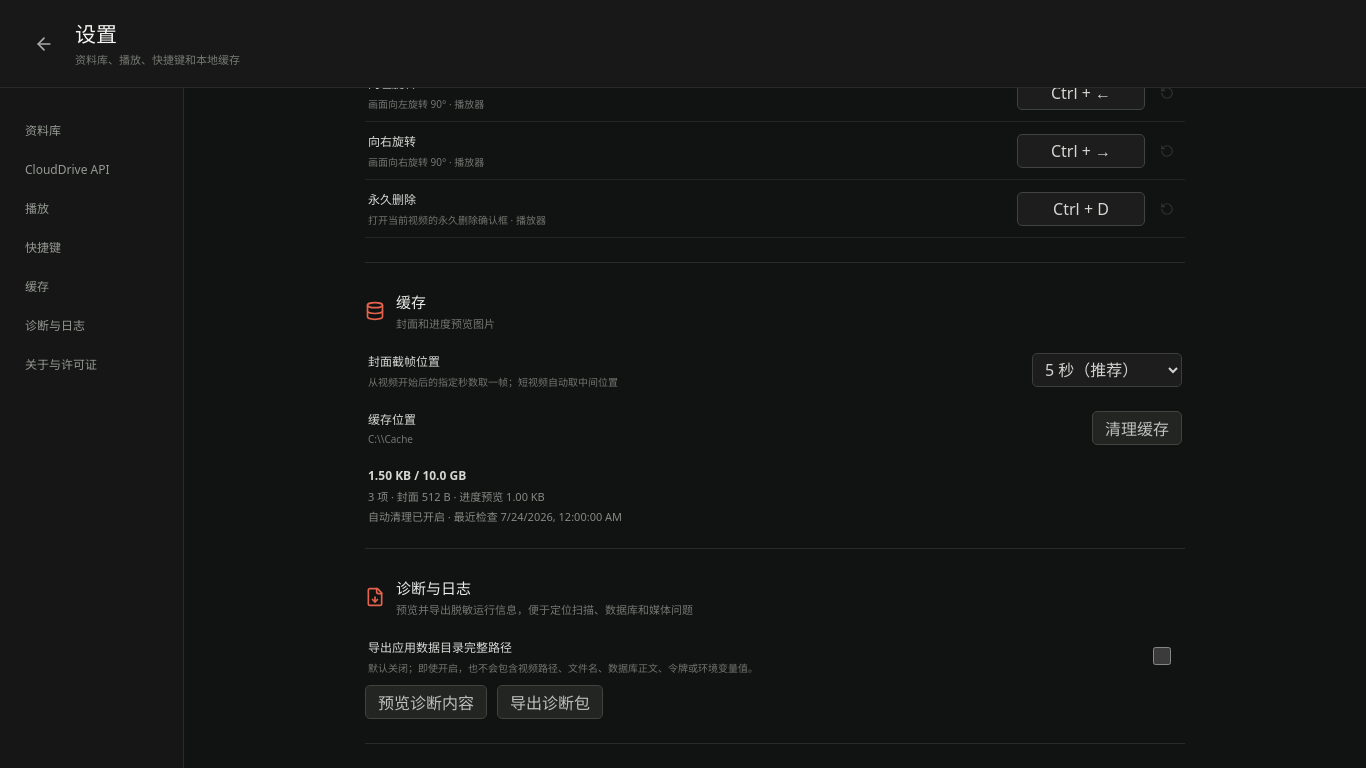
SettingsPage › shows reclaimed space and cleanup failures returned by the main process
The image size is (1366, 768).
(page scrolled)
Click the button "清理缓存" at x=1137, y=428, box [1092,411,1182,445]
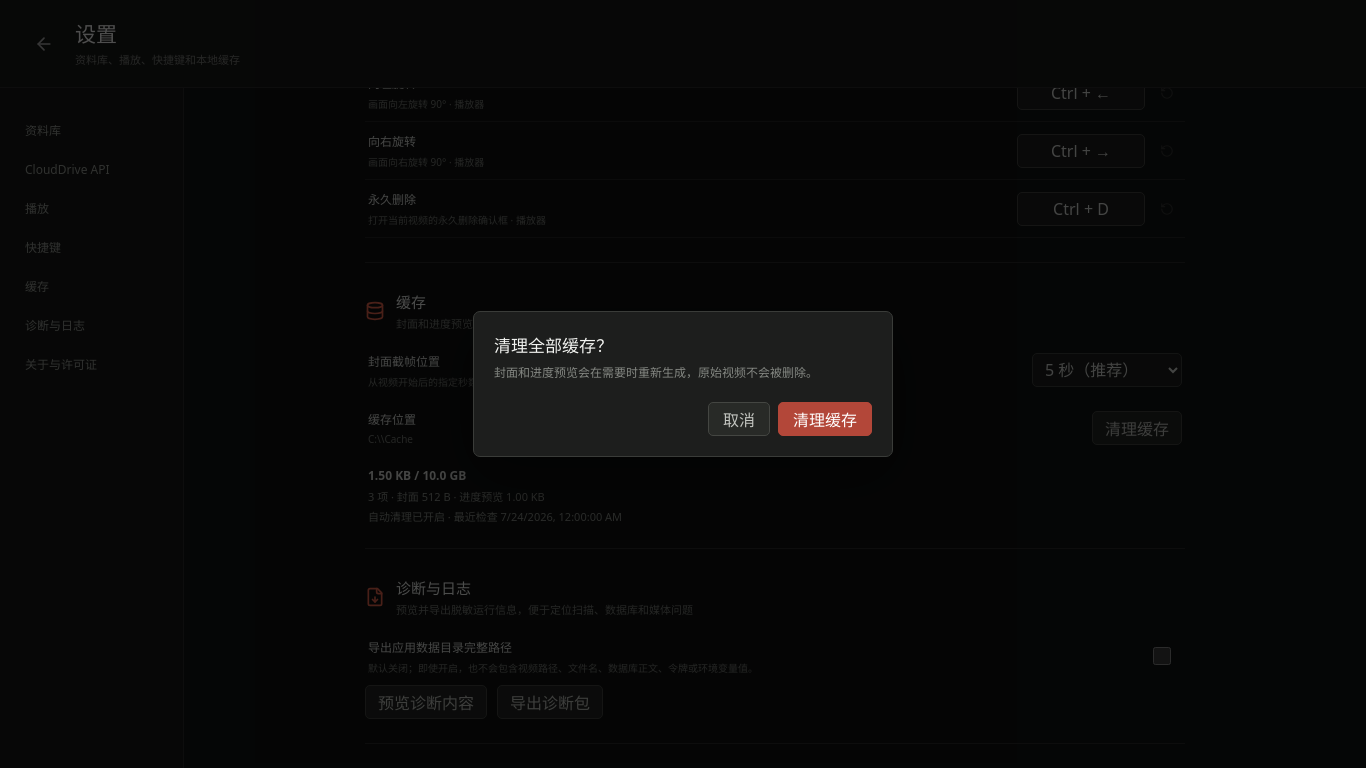
Click the button "清理缓存" at x=825, y=419, box [778,402,872,436]
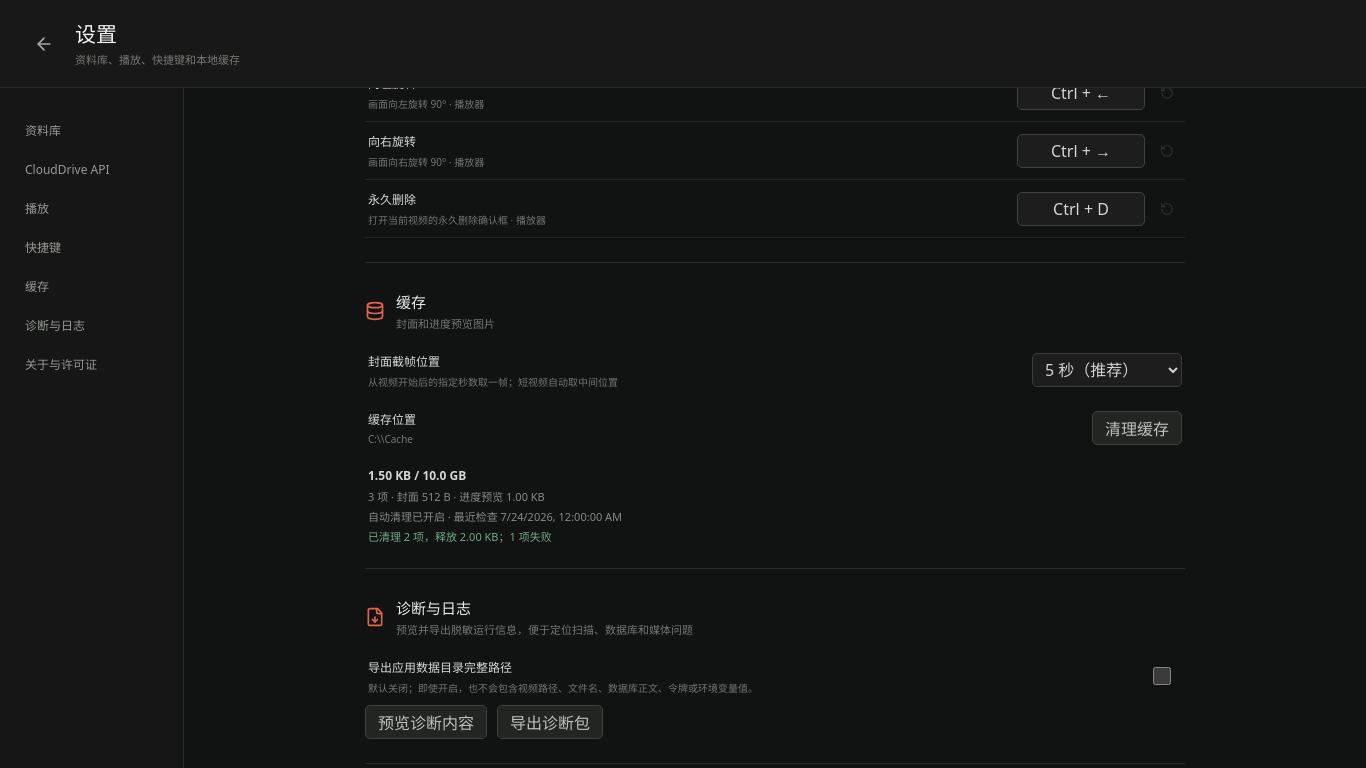
Expected: the text "已清理 2 项，释放 2.00 KB；1 项失败" is shown, [368,529,552,544]
